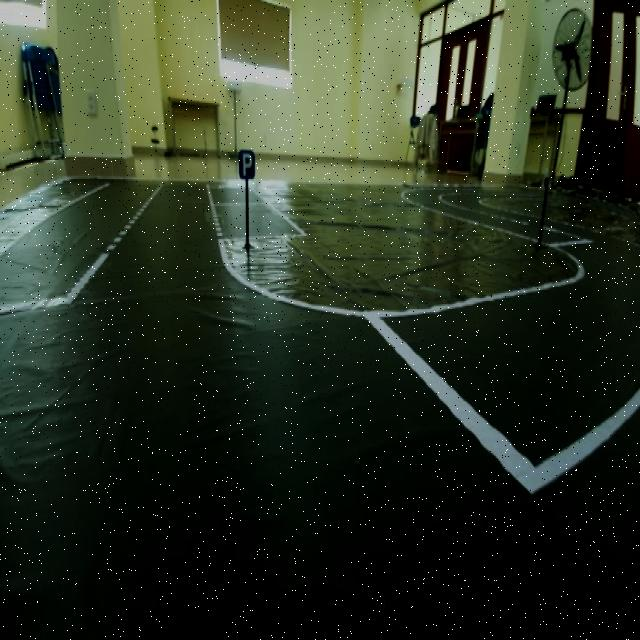parking: (233, 142, 260, 183)
